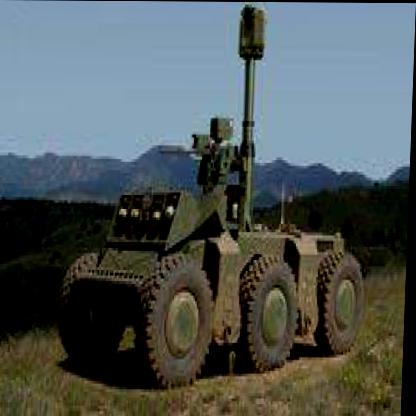UGV: (59, 189, 369, 391)
